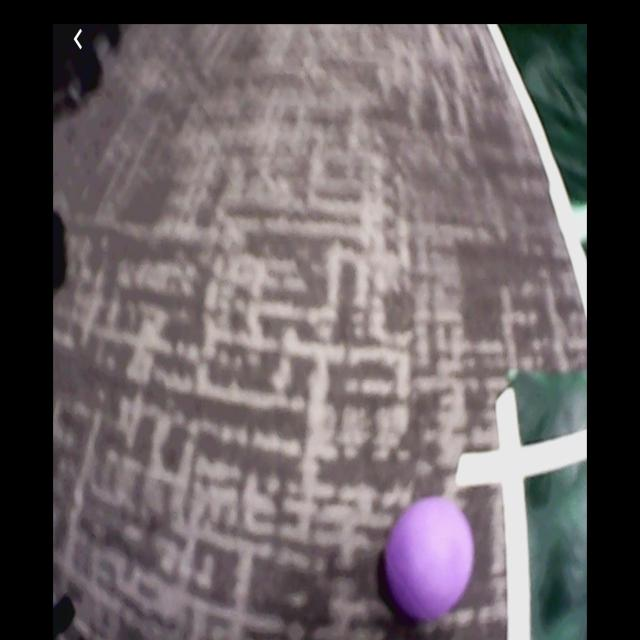ball: (384, 495, 476, 623)
